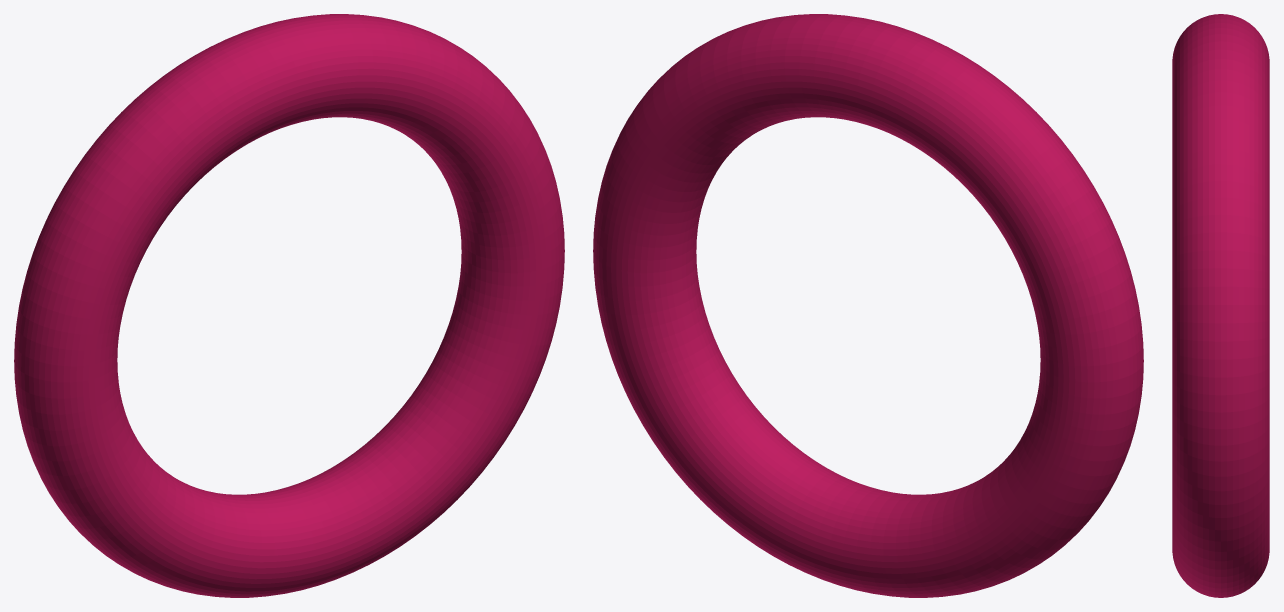
The picture shows the model from 3 angles, left to right: view 1: azimuth 30°, elevation 25°; view 2: azimuth 150°, elevation 25°; view 3: azimuth 270°, elevation 25°; orthographic projection. The views are drawn at different scales.
Visible parts, largest first — view 1: world; view 2: world; view 3: world.
Boxes of the visible parts, box(x1,y1,x2,y2) form: world: box(14, 14, 564, 597); world: box(593, 14, 1143, 597); world: box(1172, 14, 1269, 597).
Bounding box in the file's own units: 36 × 36 × 5.99.
